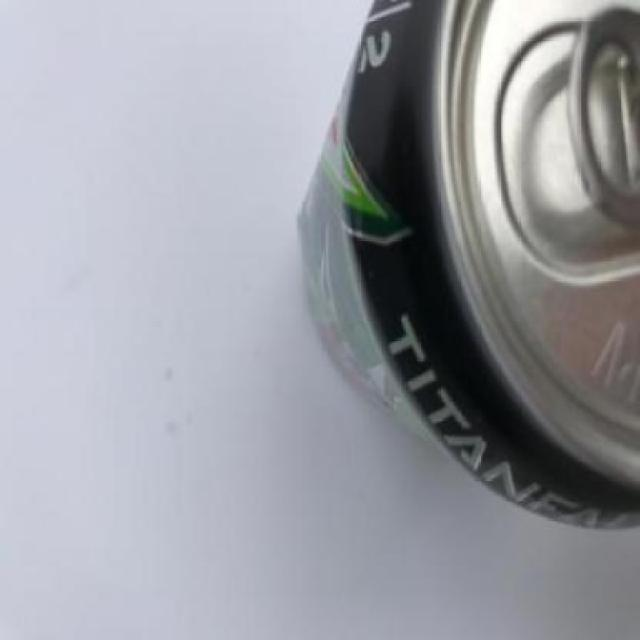METAL: (294, 0, 638, 529)
